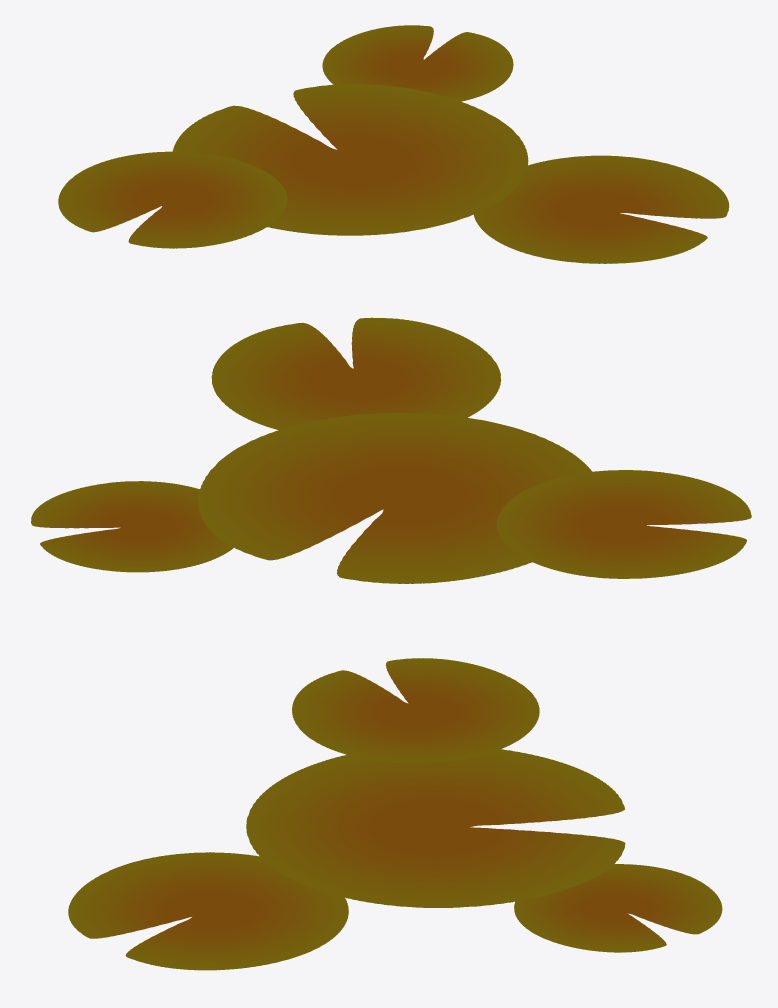
Rendered from Nenuphar_G2.fbx.
The picture shows the model from 3 angles, top to bottom: view 1: azimuth 30°, elevation 25°; view 2: azimuth 150°, elevation 25°; view 3: azimuth 270°, elevation 25°; orthographic projection. The views are drawn at different scales.
Parts seen in each view (by area): view 1: Nenuphar_G2; view 2: Nenuphar_G2; view 3: Nenuphar_G2.
Boxes of the visible parts, x1,y1,x2,y2 form: Nenuphar_G2: [58, 25, 729, 263]; Nenuphar_G2: [31, 317, 751, 583]; Nenuphar_G2: [68, 658, 722, 970].
Size of the model in its own units: 39.04 by 1.31 by 37.68.
